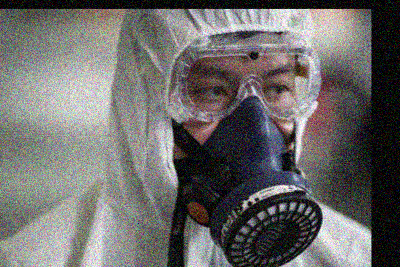with_mask: (172, 46, 316, 221)
